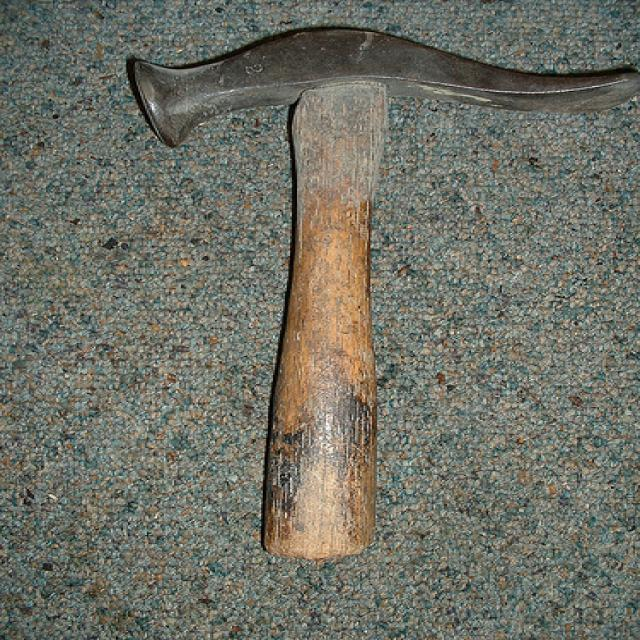hammer: (112, 16, 640, 570)
